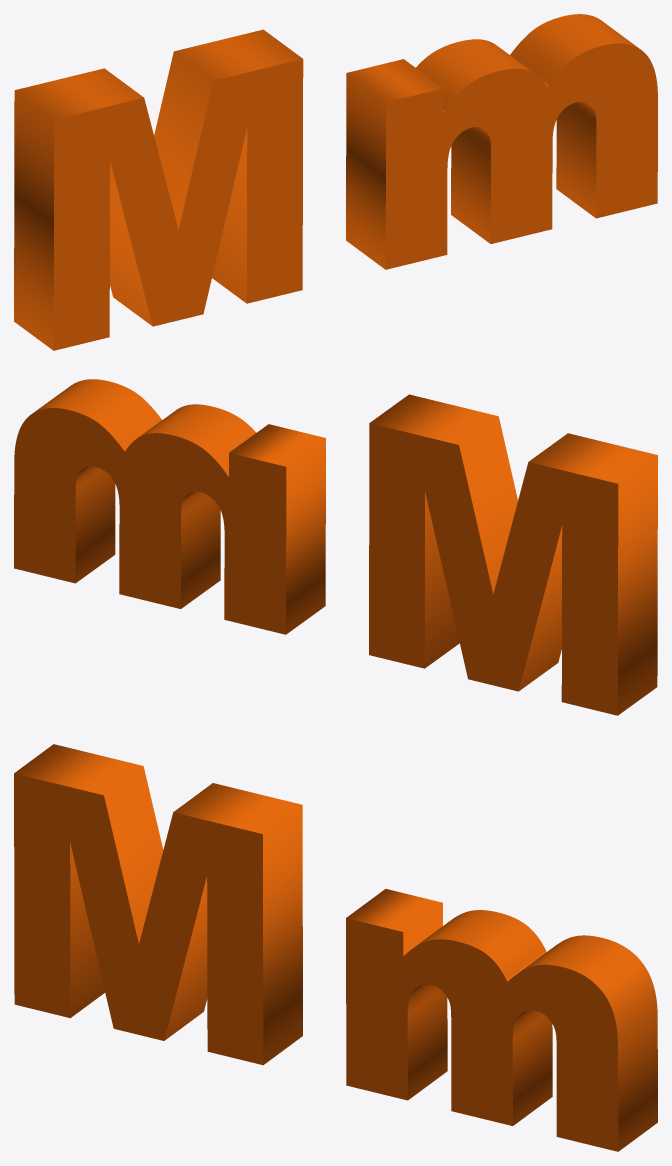
The model's file is letra m.fbx.
3 renders of one model, top to bottom at view 1: azimuth 30°, elevation 25°; view 2: azimuth 150°, elevation 25°; view 3: azimuth 330°, elevation 25°, orthographic.
Visible parts, largest first — view 1: Text; view 2: Text; view 3: Text.
Boxes of the visible parts, x1,y1,x2,y2 form: Text: [14, 14, 657, 350]; Text: [14, 379, 657, 715]; Text: [14, 744, 657, 1151].
Bounding box in the file's own units: 141 × 51.56 × 16.21.
